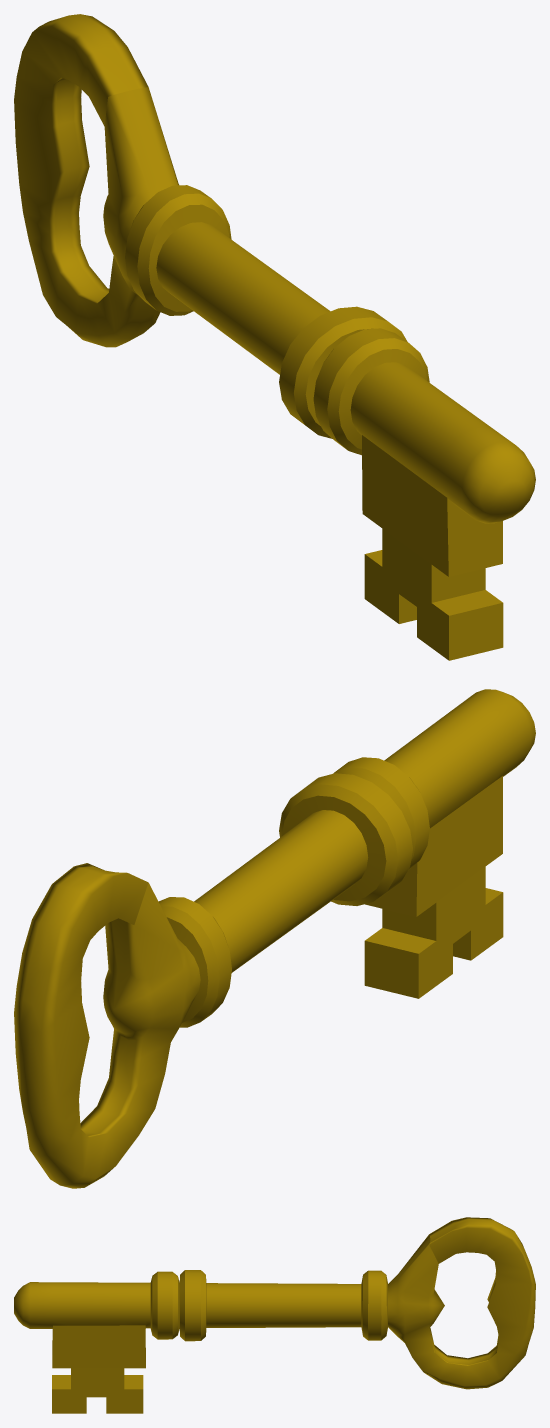
File: key.fbx
The picture shows the model from 3 angles, top to bottom: view 1: azimuth 30°, elevation 25°; view 2: azimuth 150°, elevation 25°; view 3: azimuth 270°, elevation 25°; orthographic projection. The views are drawn at different scales.
Parts seen in each view (by area): view 1: Key_low; view 2: Key_low; view 3: Key_low.
Part boxes in pixels (x1,y1,x2,y2): Key_low: (14,14,535,660); Key_low: (14,689,535,1188); Key_low: (14,1217,535,1413).
Size of the model in its own units: 15.13 by 41.46 by 106.
